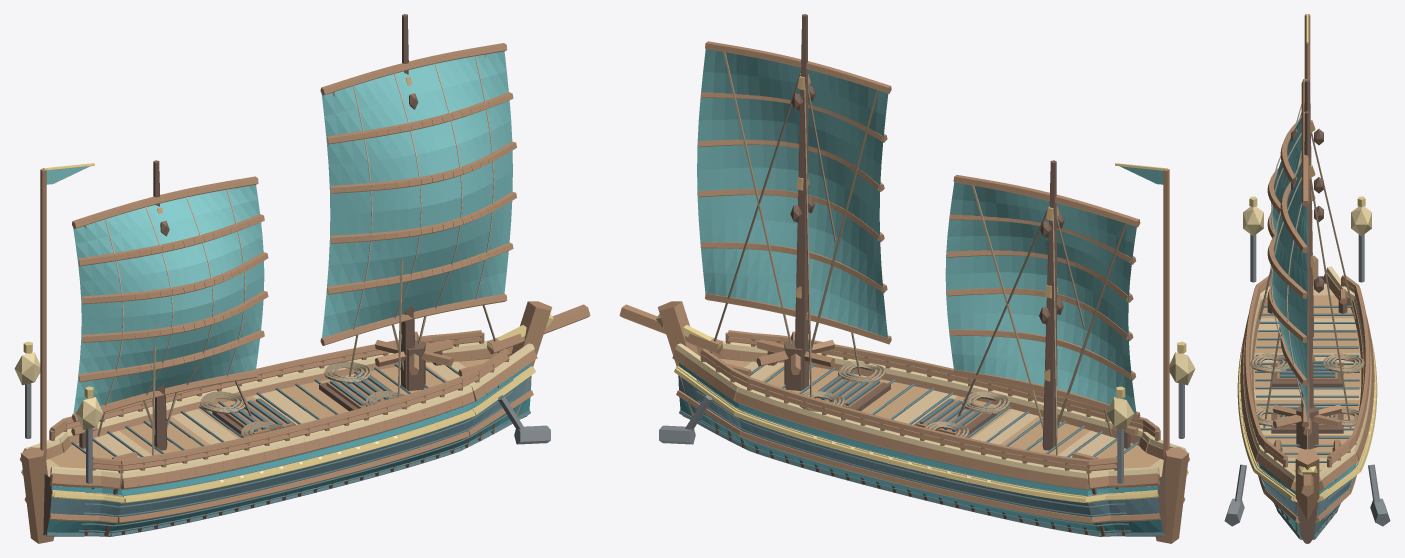
Rendered from mu_voyager-v5-mobile.glb.
3 renders of one model, left to right at view 1: azimuth 30°, elevation 25°; view 2: azimuth 150°, elevation 25°; view 3: azimuth 270°, elevation 25°, orthographic. The views are drawn at different scales.
Visible parts, largest first — view 1: mu_voyager_sails_turquoise, mu_voyager_rigging_hull2, mu_voyager_hull_hull2, mu_voyager_railings_hull2, mu_voyager_hull_ghostdark, mu_voyager_hull_teal, mu_voyager_hull_pale, mu_voyager_hull_blue, mu_voyager_hull_wood, mu_voyager_hull_gold, mu_voyager_rigging_sailshade, mu_voyager_hull_decklight (+10 smaller); view 2: mu_voyager_sails_turquoise, mu_voyager_hull_hull2, mu_voyager_rigging_hull2, mu_voyager_railings_hull2, mu_voyager_hull_ghostdark, mu_voyager_masts_darkwood, mu_voyager_hull_teal, mu_voyager_hull_pale, mu_voyager_hull_blue, mu_voyager_hull_wood, mu_voyager_hull_gold, mu_voyager_rigging_rope (+11 smaller); view 3: mu_voyager_sails_turquoise, mu_voyager_hull_hull2, mu_voyager_hull_wood, mu_voyager_rigging_hull2, mu_voyager_railings_hull2, mu_voyager_hull_ghostdark, mu_voyager_hull_decklight, mu_voyager_masts_darkwood, mu_voyager_fittings_iron, mu_voyager_fittings_darkwood, mu_voyager_hull_gold, mu_voyager_hull_pale (+14 smaller).
Part boxes in pixels (<box>): mu_voyager_sails_turquoise: <box>73,51,512,413</box>; mu_voyager_rigging_hull2: <box>72,43,516,422</box>; mu_voyager_hull_hull2: <box>20,301,590,543</box>; mu_voyager_railings_hull2: <box>49,330,509,484</box>; mu_voyager_hull_ghostdark: <box>46,363,530,536</box>; mu_voyager_hull_teal: <box>46,363,530,533</box>; mu_voyager_hull_pale: <box>23,340,534,479</box>; mu_voyager_hull_blue: <box>44,375,531,535</box>; mu_voyager_hull_wood: <box>49,355,510,485</box>; mu_voyager_hull_gold: <box>21,366,535,503</box>; mu_voyager_rigging_sailshade: <box>104,56,494,405</box>; mu_voyager_hull_decklight: <box>46,361,465,486</box>; mu_voyager_sails_turquoise: <box>697,49,1136,413</box>; mu_voyager_hull_hull2: <box>619,301,1189,543</box>; mu_voyager_rigging_hull2: <box>698,41,1140,420</box>; mu_voyager_railings_hull2: <box>700,330,1160,484</box>; mu_voyager_hull_ghostdark: <box>679,363,1163,536</box>; mu_voyager_masts_darkwood: <box>790,14,1064,450</box>; mu_voyager_hull_teal: <box>679,363,1163,533</box>; mu_voyager_hull_pale: <box>675,340,1186,479</box>; mu_voyager_hull_blue: <box>678,375,1165,535</box>; mu_voyager_hull_wood: <box>699,355,1160,485</box>; mu_voyager_hull_gold: <box>674,366,1188,502</box>; mu_voyager_rigging_rope: <box>723,51,1126,435</box>; mu_voyager_sails_turquoise: <box>1271,112,1307,425</box>; mu_voyager_hull_hull2: <box>1240,255,1374,532</box>; mu_voyager_hull_wood: <box>1253,295,1361,472</box>; mu_voyager_rigging_hull2: <box>1267,79,1309,427</box>; mu_voyager_railings_hull2: <box>1244,275,1370,467</box>; mu_voyager_hull_ghostdark: <box>1255,305,1359,539</box>; mu_voyager_hull_decklight: <box>1254,283,1360,469</box>; mu_voyager_masts_darkwood: <box>1291,79,1323,408</box>; mu_voyager_fittings_iron: <box>1224,234,1390,526</box>; mu_voyager_fittings_darkwood: <box>1267,296,1347,451</box>; mu_voyager_hull_gold: <box>1237,336,1377,502</box>; mu_voyager_hull_pale: <box>1243,266,1371,481</box>.
Bounding box in the file's own units: 33.28 × 24.83 × 9.63.
